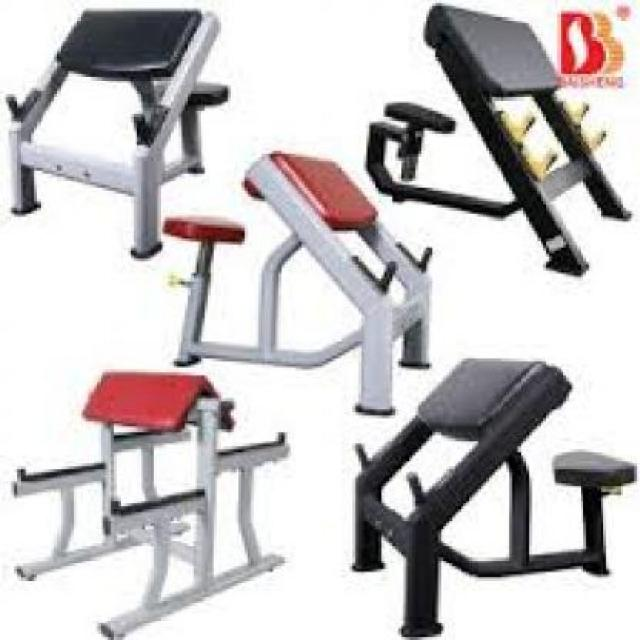arm curl machine: (351, 360, 637, 637), (11, 370, 288, 638), (164, 148, 436, 368), (4, 8, 230, 210)
